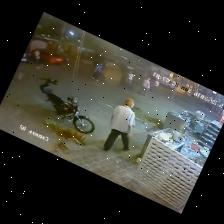person: (103, 99, 134, 151), (138, 78, 149, 95), (91, 64, 101, 81), (34, 50, 39, 68), (152, 79, 159, 88), (126, 72, 132, 82)
